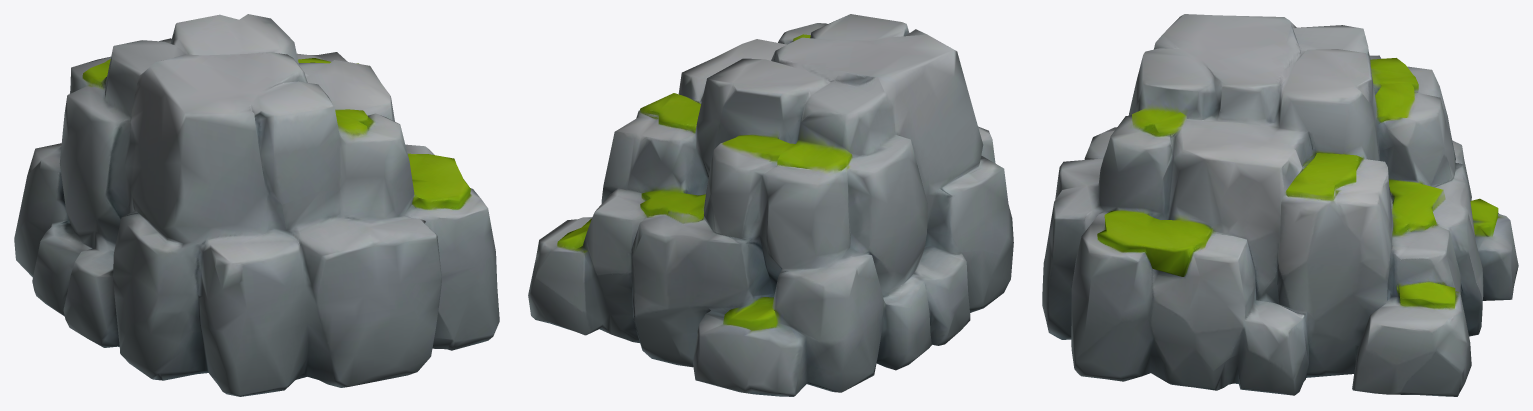
Rendered from cliff.glb.
3 renders of one model, left to right at view 1: azimuth 30°, elevation 25°; view 2: azimuth 150°, elevation 25°; view 3: azimuth 270°, elevation 25°, orthographic. The views are drawn at different scales.
Visible parts, largest first — view 1: tripo_node_a8d1ea23-68ad-4438-a6bf-fe5f6c007f82; view 2: tripo_node_a8d1ea23-68ad-4438-a6bf-fe5f6c007f82; view 3: tripo_node_a8d1ea23-68ad-4438-a6bf-fe5f6c007f82.
Part boxes in pixels (x1,y1,x2,y2): tripo_node_a8d1ea23-68ad-4438-a6bf-fe5f6c007f82: [14, 14, 499, 396]; tripo_node_a8d1ea23-68ad-4438-a6bf-fe5f6c007f82: [528, 14, 1013, 396]; tripo_node_a8d1ea23-68ad-4438-a6bf-fe5f6c007f82: [1042, 14, 1518, 396].
Bounding box in the file's own units: 0.8584 × 0.5815 × 1.
1 material, 1 textured.
